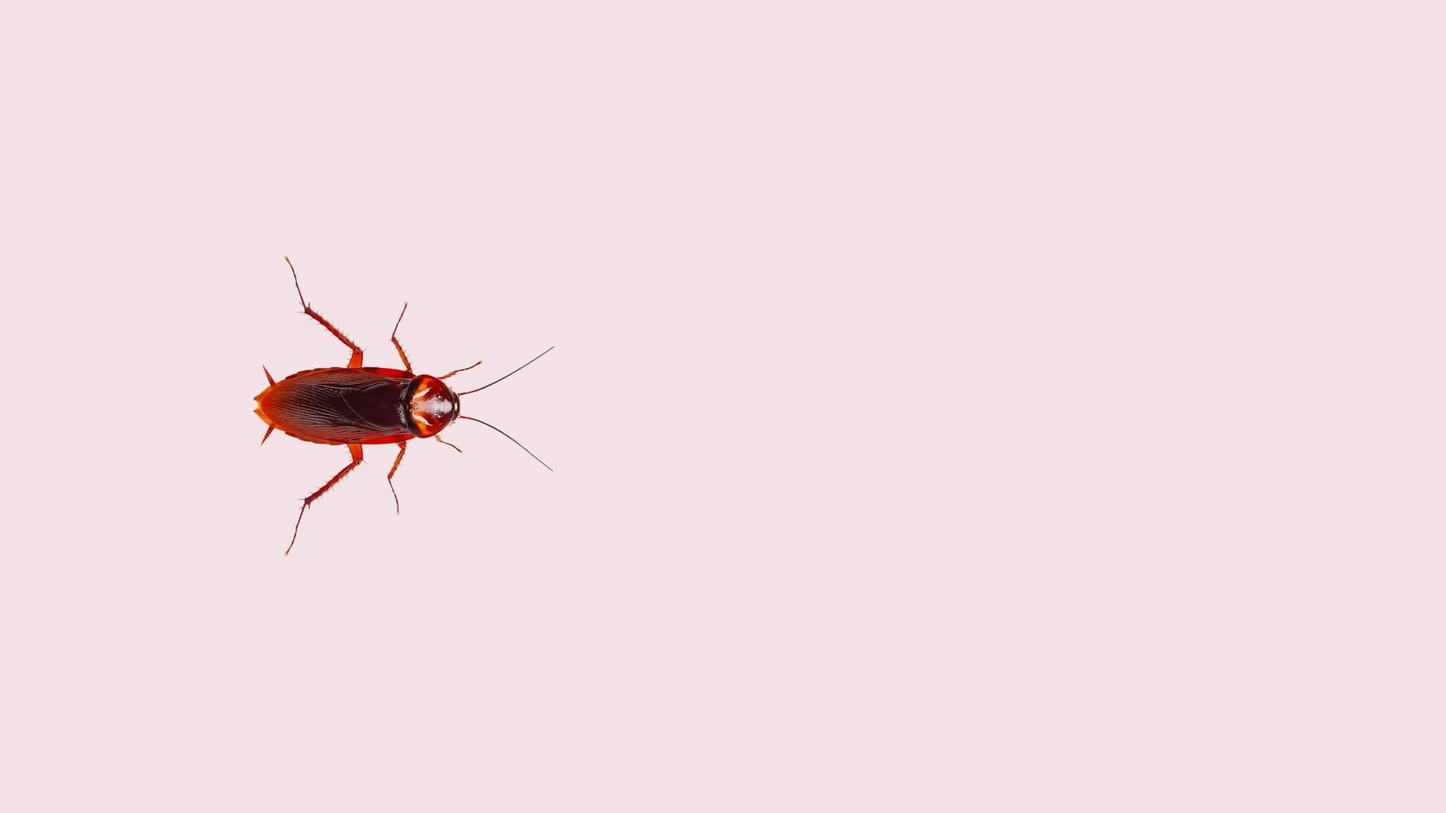cockroach: (239, 249, 562, 557)
